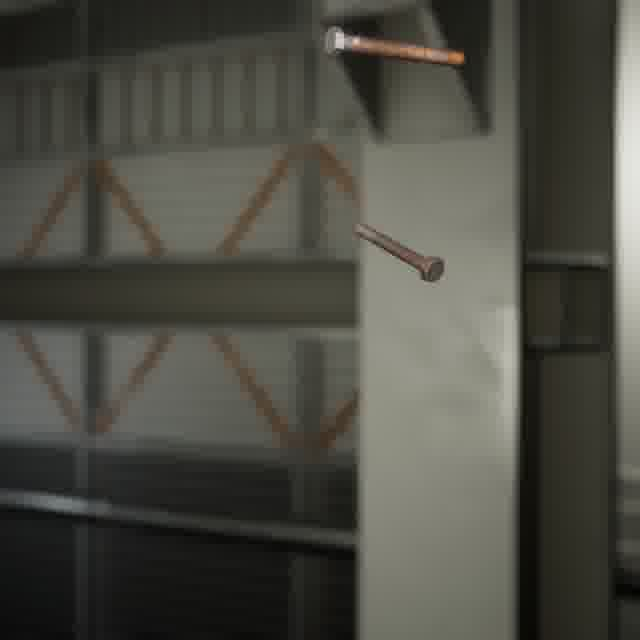bolt: (318, 22, 469, 71), (350, 217, 448, 286)
